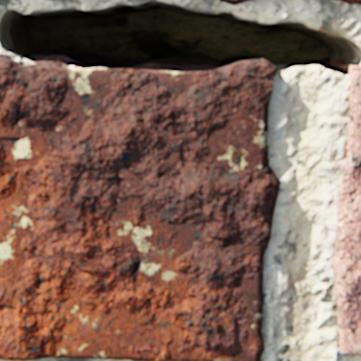brick: (0, 56, 279, 360), (332, 66, 360, 353), (219, 0, 248, 5), (336, 0, 360, 4)
crack: (0, 0, 360, 75)
